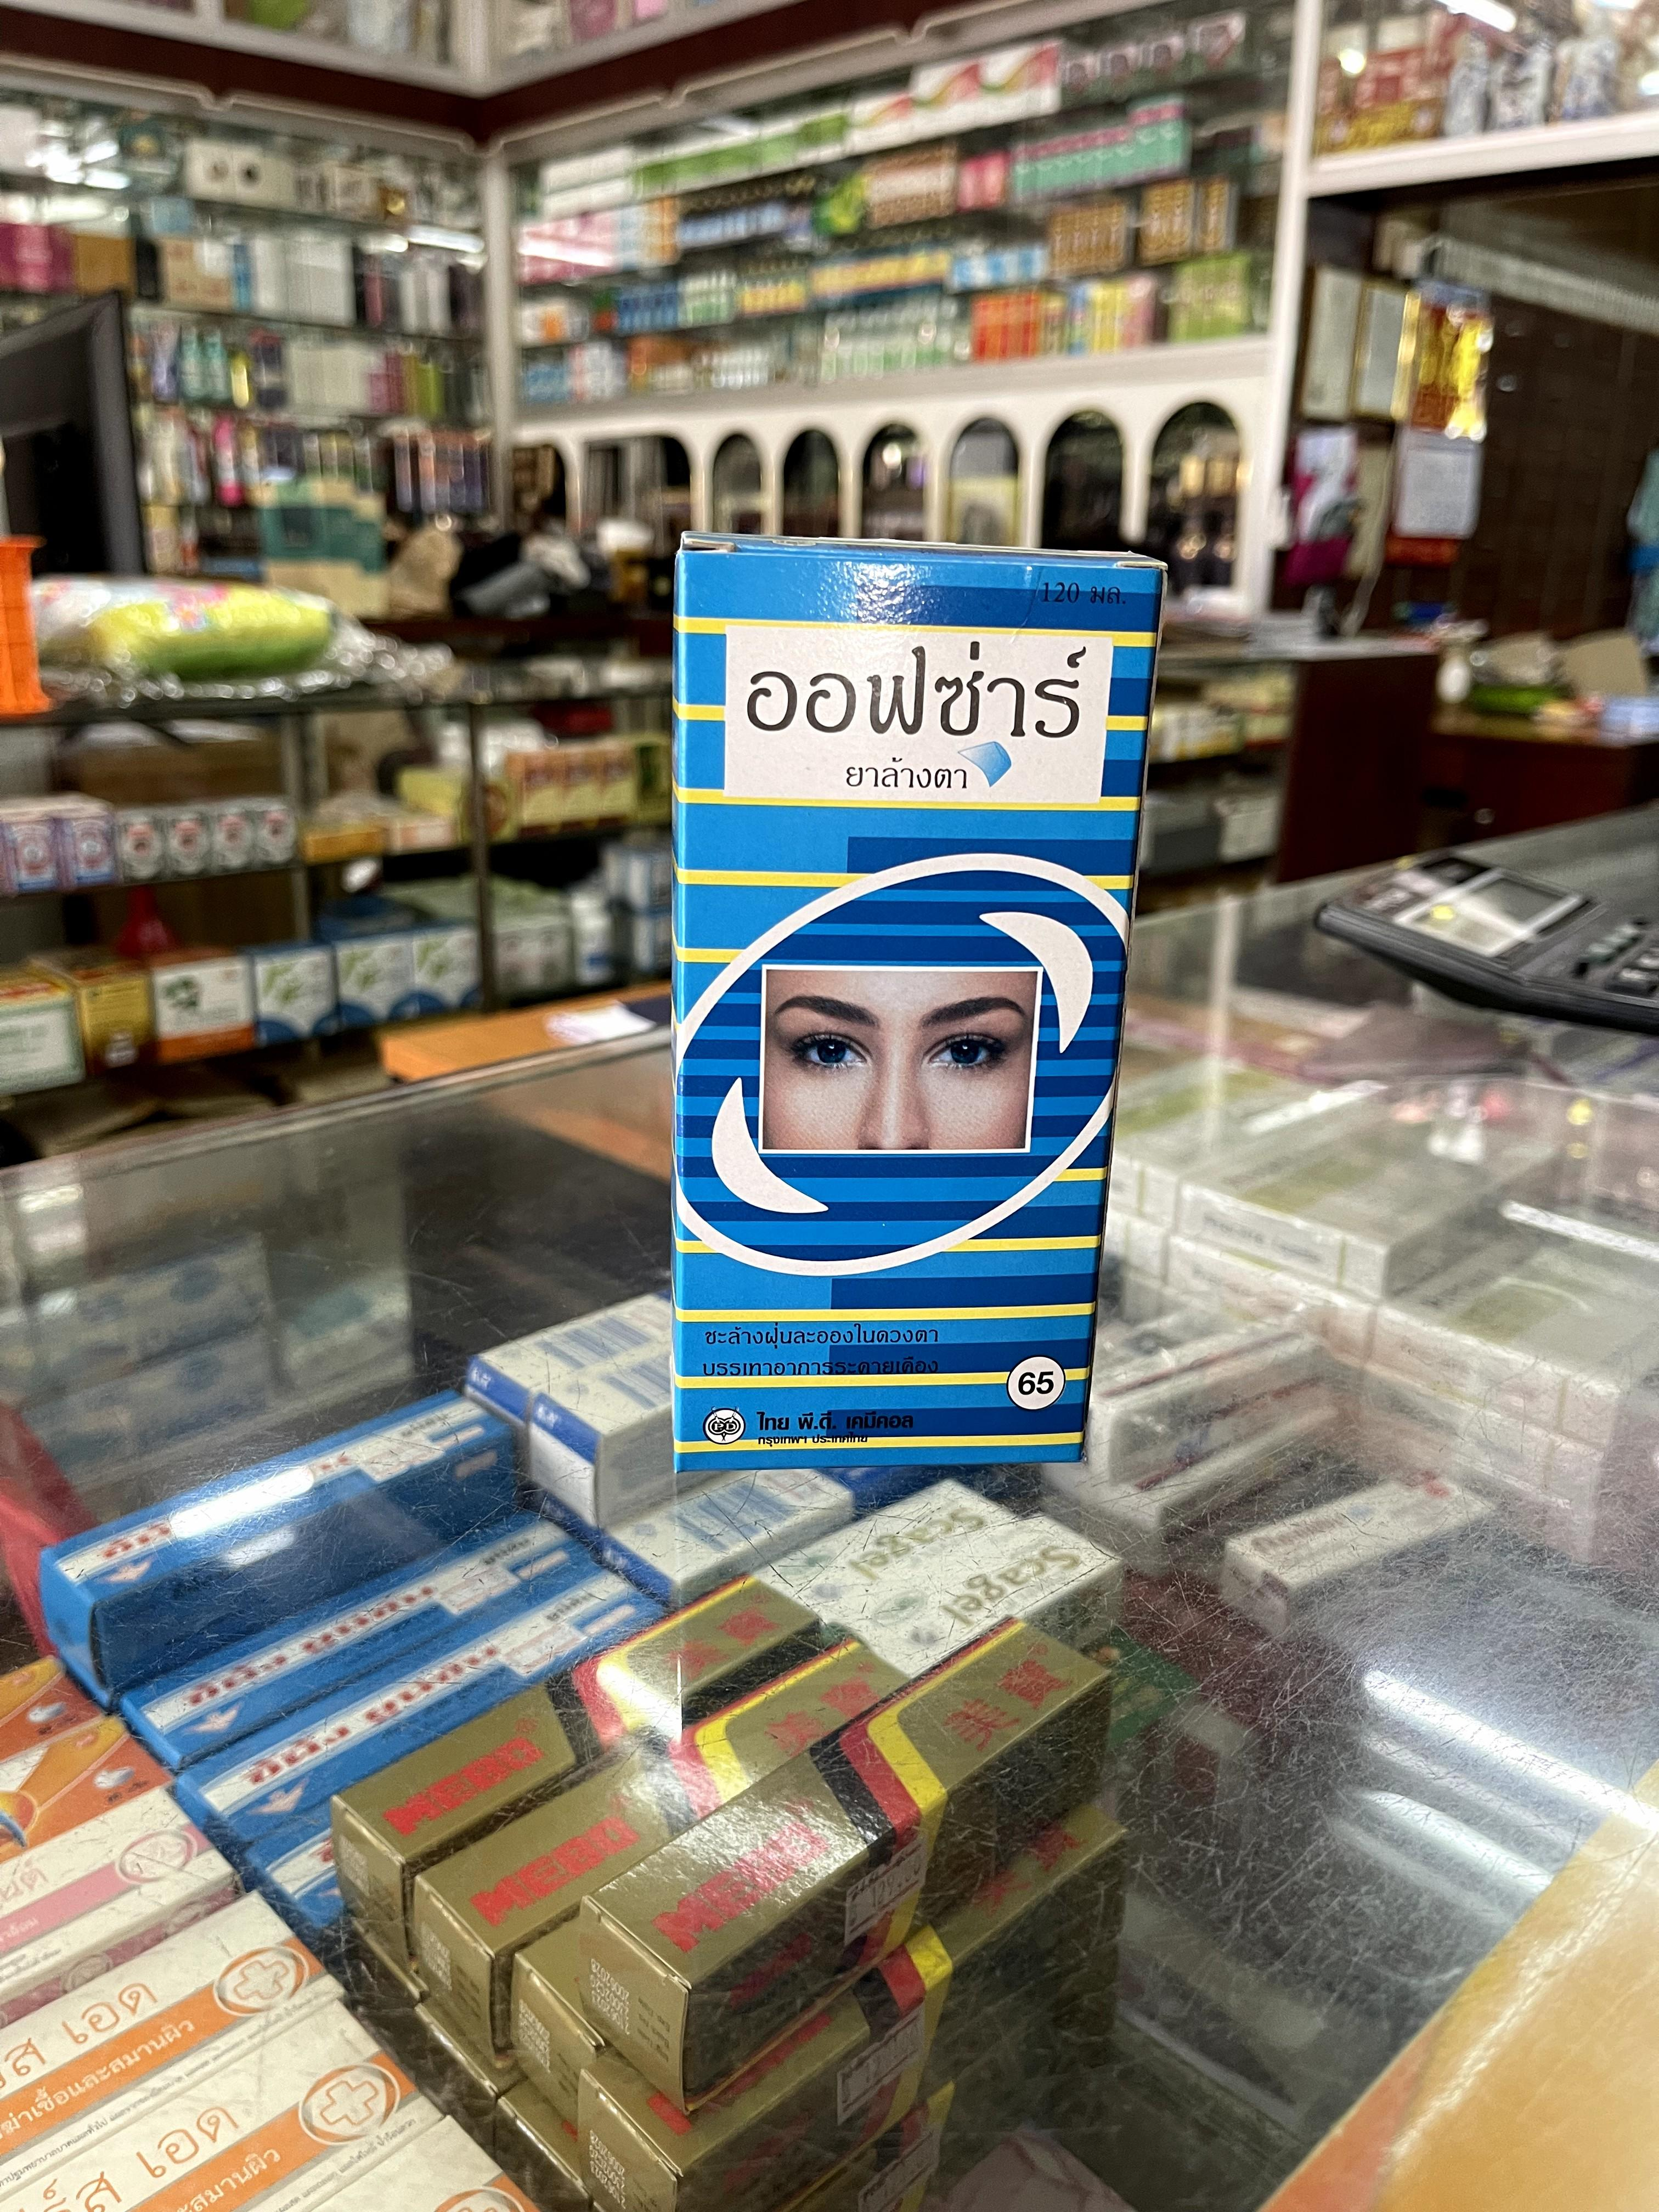Opsar: (673, 529, 1166, 1475)
